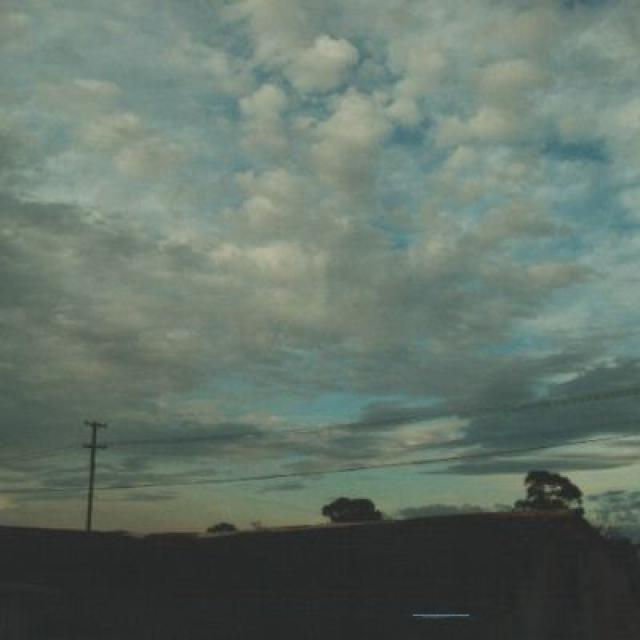Ci: (21, 40, 640, 384)
